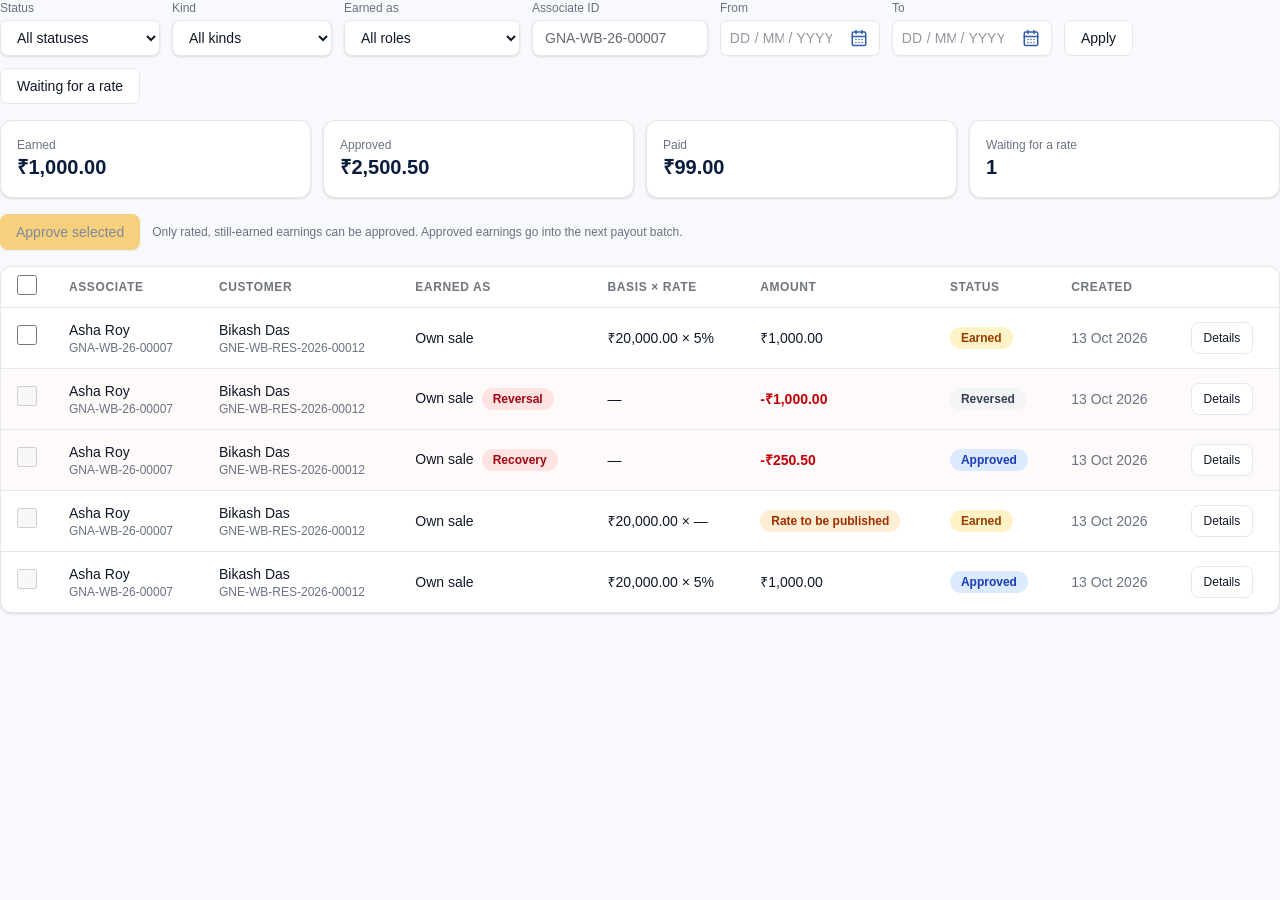
Test: Commissions list (E7) › shows why entries could not be approved and keeps the dialog open
The image size is (1280, 900).
What coordinates should you click on to do the following:
click the checkbox named "Select entry 12"
I would click on:
 (27, 335)
Its box is 17,325 -> 37,345.
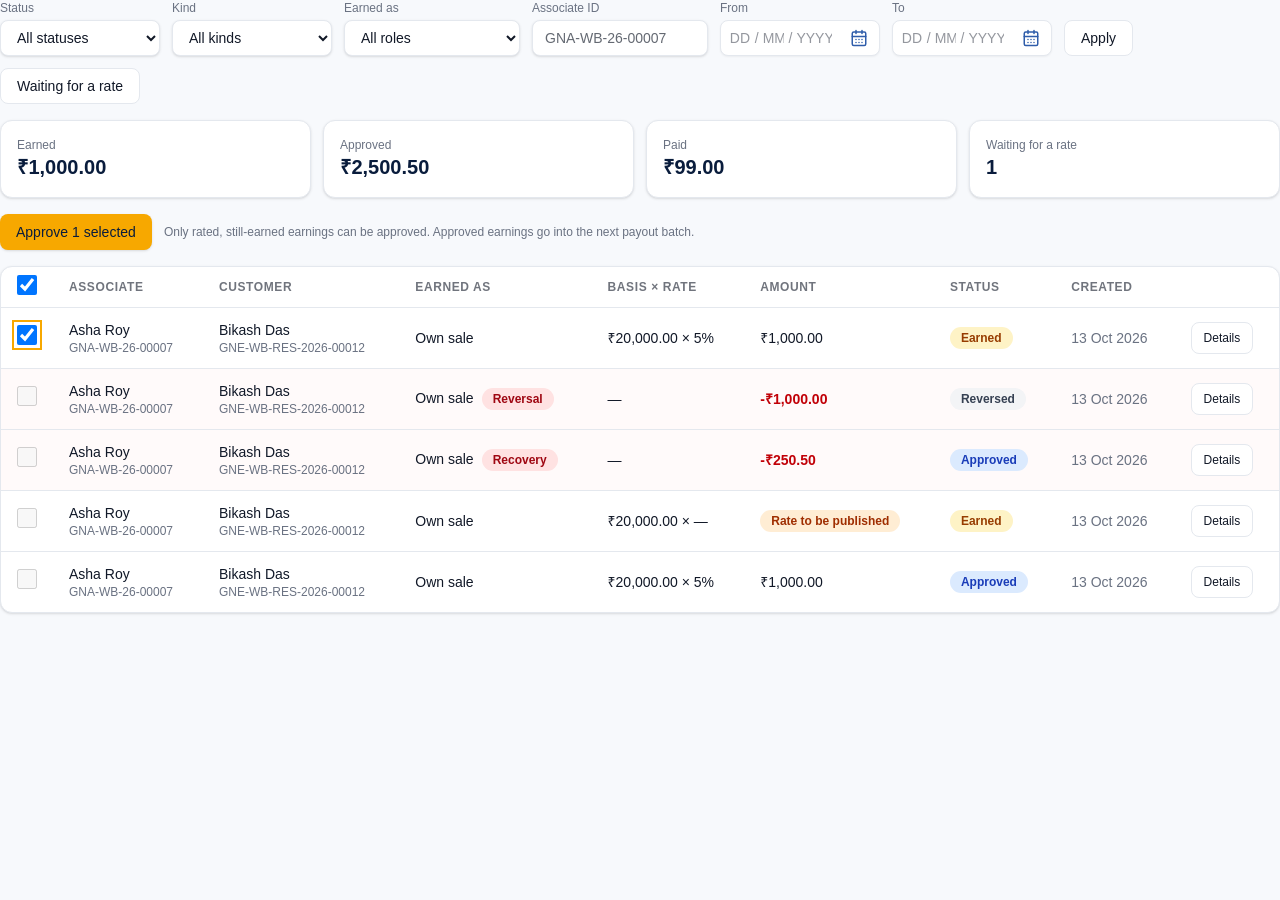
What coordinates should you click on to do the following:
click the button "Approve 1 selected"
I would click on:
 (76, 232)
Its box is 0,214 -> 152,250.
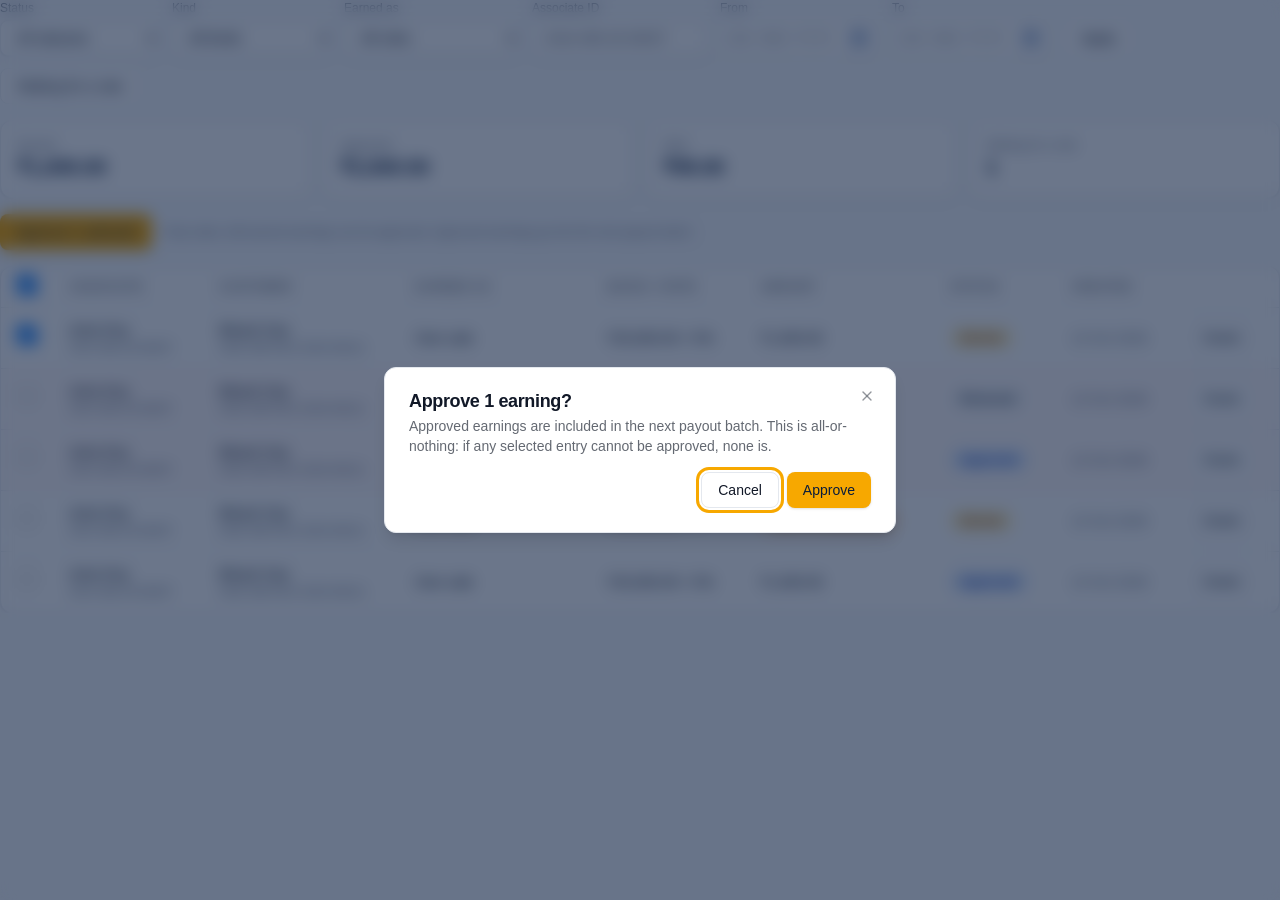
What coordinates should you click on to do the following:
click the button "Approve"
I would click on:
 (829, 490)
Its box is 787,472 -> 871,508.
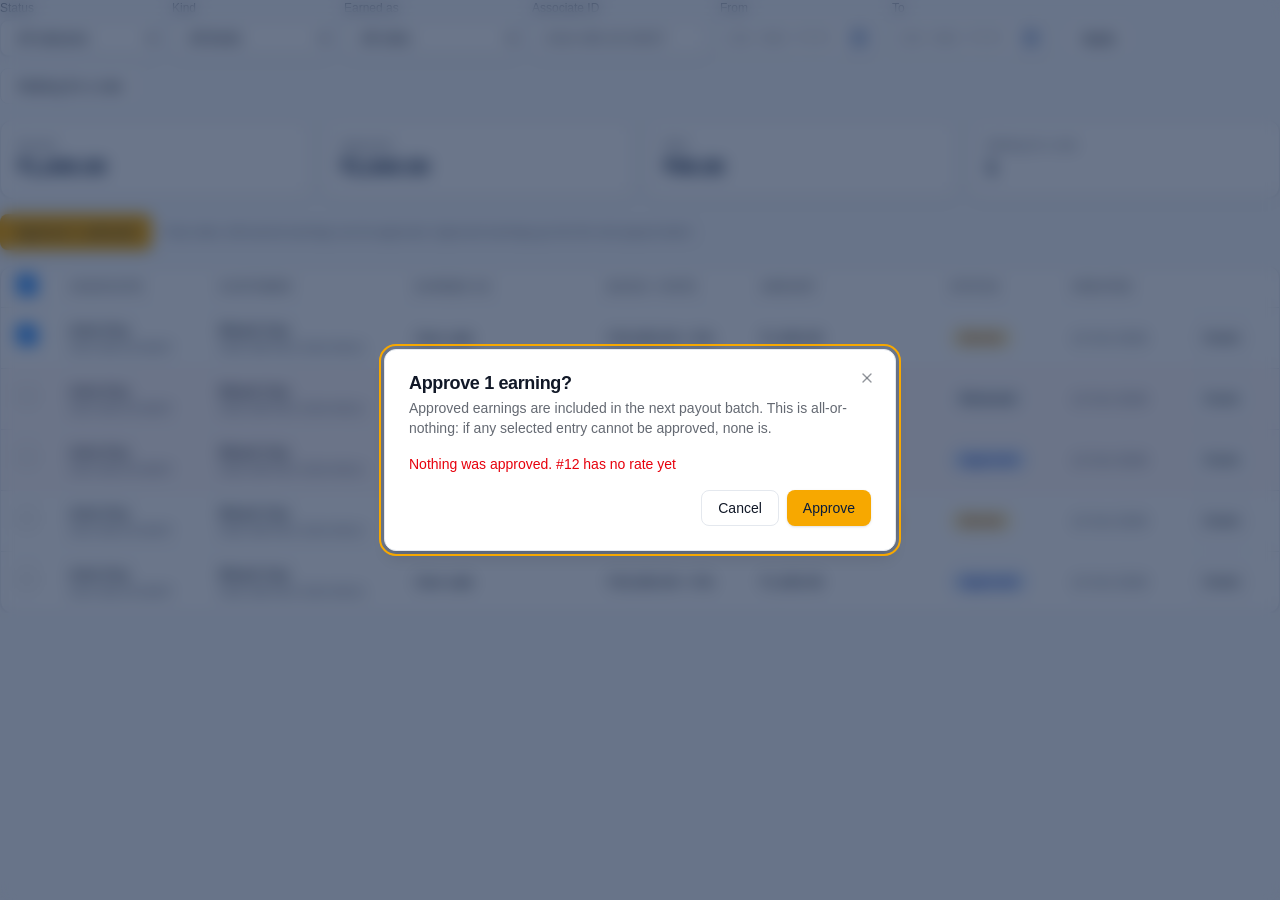
Expected: the text "Nothing was approved. #12 has no rate yet" is shown, 409,456 -> 676,472
